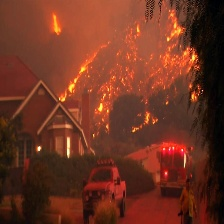fire: (112, 37, 165, 92), (57, 61, 89, 102), (93, 85, 113, 137), (130, 101, 161, 133), (161, 11, 189, 41), (177, 47, 205, 73), (184, 81, 204, 105), (49, 9, 64, 35)
smoke: (10, 1, 119, 30)
